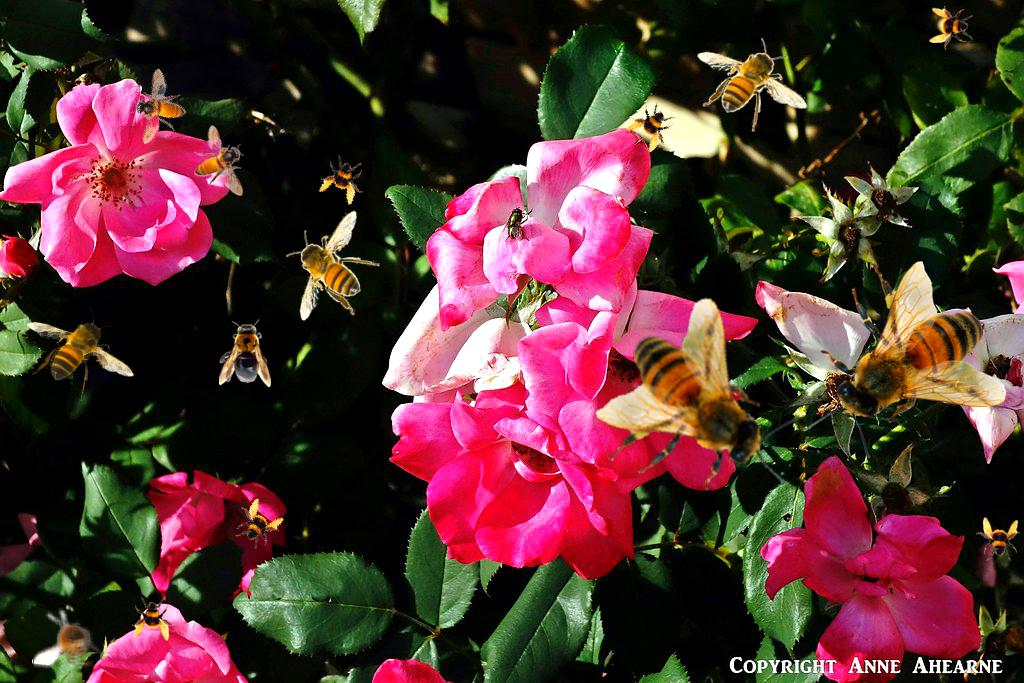Bee: (574, 281, 817, 529), (803, 261, 1007, 460), (286, 210, 380, 321), (697, 38, 808, 132), (25, 307, 136, 401), (117, 67, 199, 154), (31, 604, 110, 676), (226, 493, 288, 555), (622, 96, 684, 158), (194, 125, 244, 196), (219, 319, 271, 387), (316, 152, 372, 208), (132, 597, 176, 641), (929, 6, 973, 50), (976, 517, 1020, 561)
